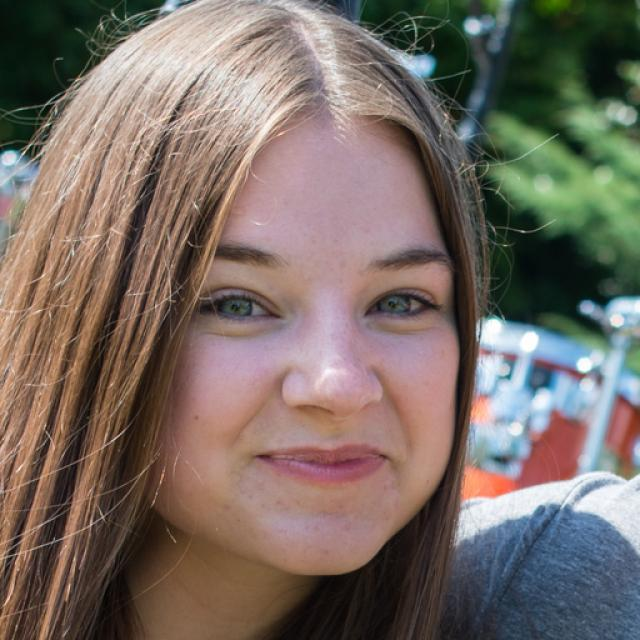disgust: (162, 124, 462, 575)
